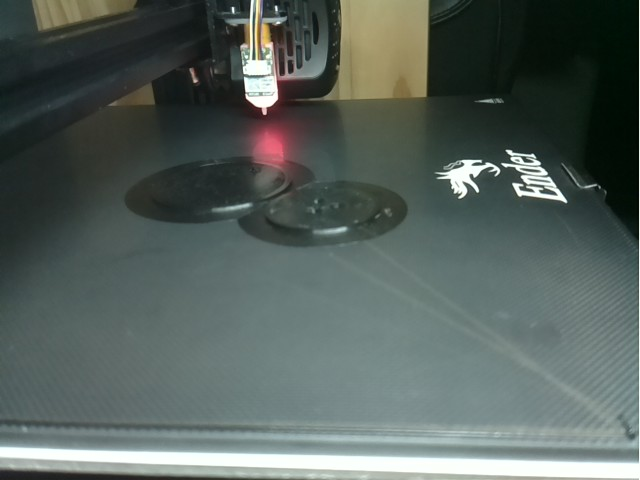left: (151, 140, 281, 220)
